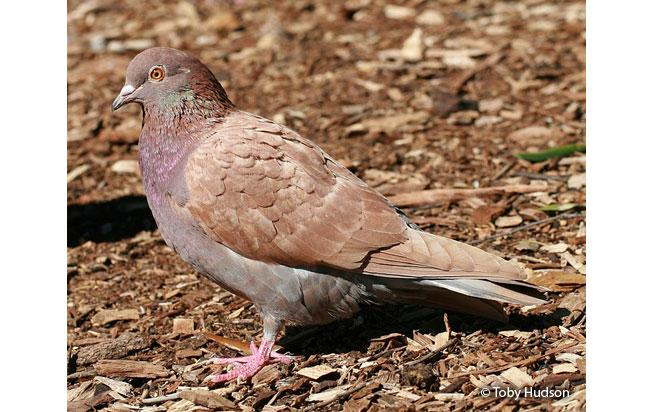Flying Rat: (104, 50, 546, 388)
